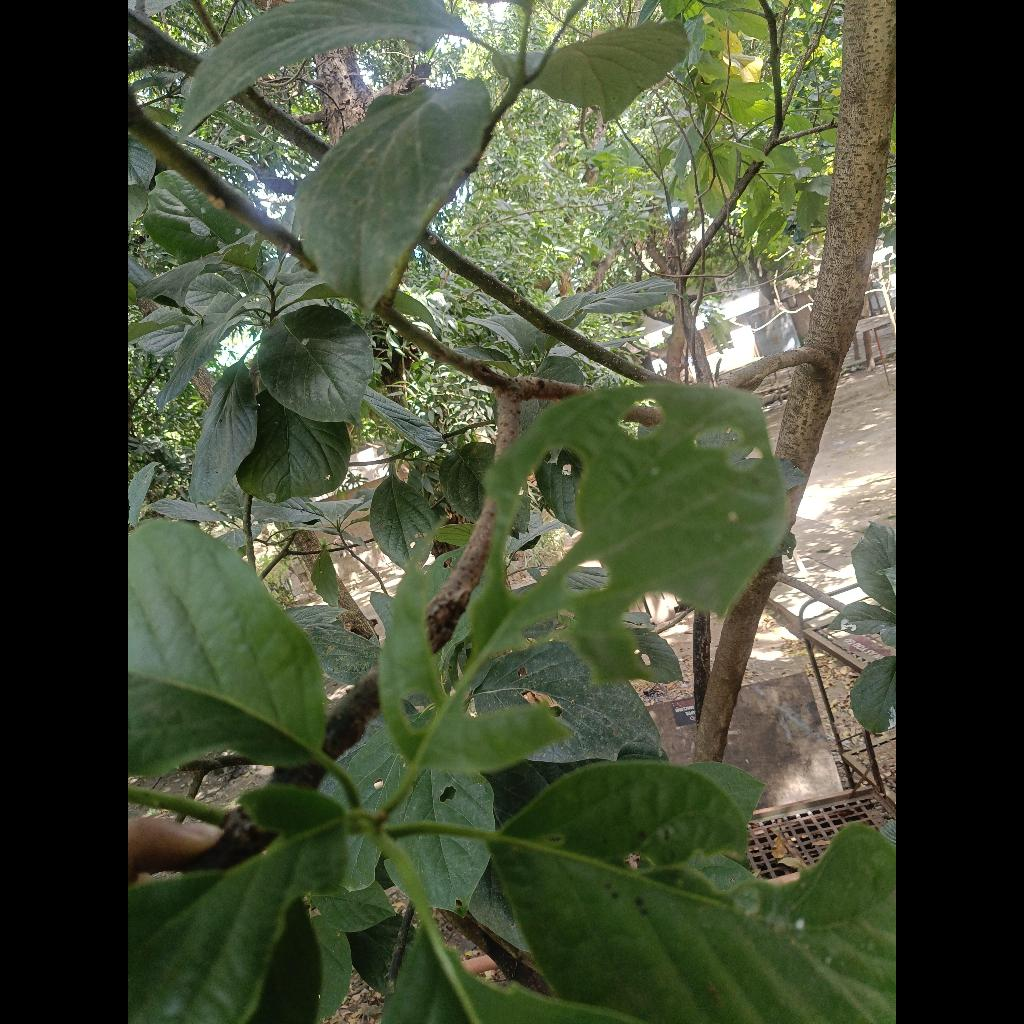plaga: (378, 384, 785, 773)
